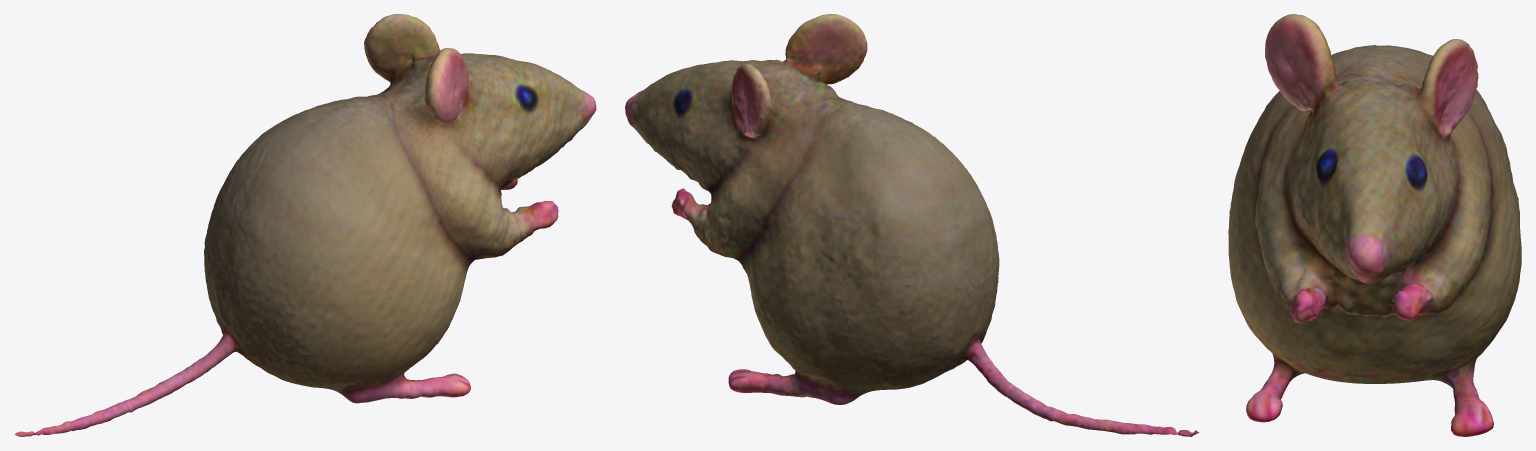
3 renders of one model, left to right at view 1: azimuth 30°, elevation 25°; view 2: azimuth 150°, elevation 25°; view 3: azimuth 270°, elevation 25°, orthographic. The views are drawn at different scales.
Parts seen in each view (by area): view 1: Mesh1; view 2: Mesh1; view 3: Mesh1.
Part boxes in pixels (x1,y1,x2,y2): Mesh1: (14, 14, 596, 436); Mesh1: (625, 14, 1199, 436); Mesh1: (1228, 14, 1521, 436).
Size of the model in its own units: 1.2 by 0.6572 by 0.4294.
Materials: 1 (1 with a texture image).
